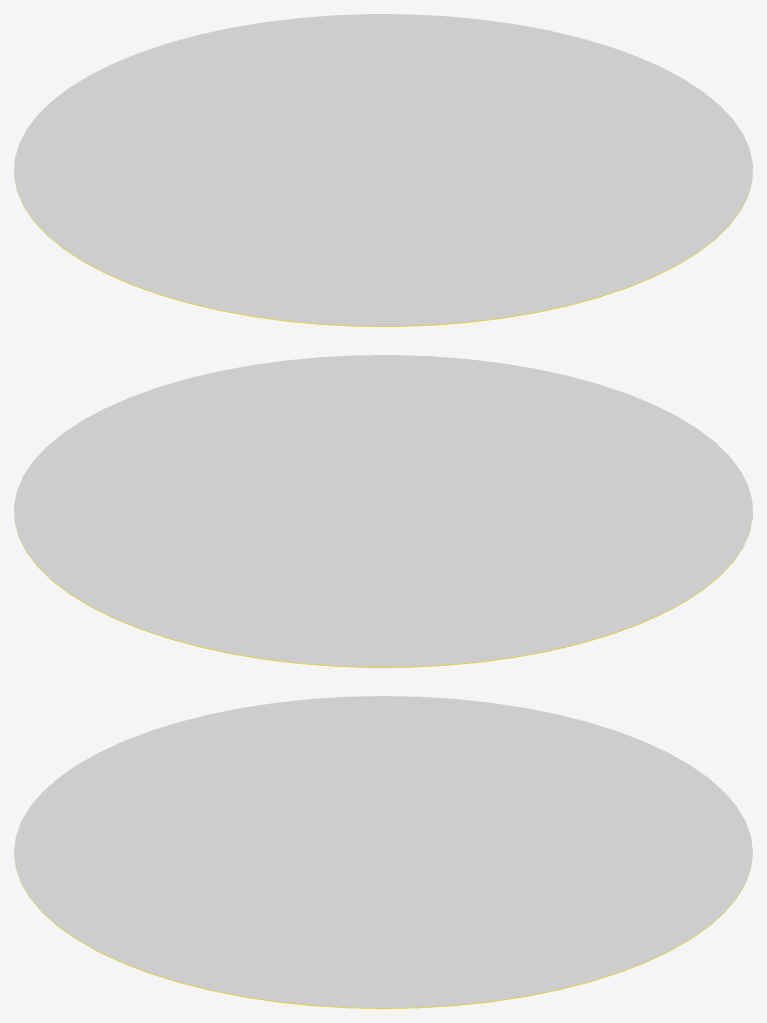
Rendered from Lija.fbx.
3 views of the same model, one above another, from view 1: azimuth 30°, elevation 25°; view 2: azimuth 150°, elevation 25°; view 3: azimuth 270°, elevation 25° (orthographic).
Visible parts, largest first — view 1: Lija, NoLija; view 2: Lija, NoLija; view 3: Lija, NoLija.
Boxes of the visible parts, <box> form: Lija: <box>14,14,752,326</box>; NoLija: <box>14,169,752,326</box>; Lija: <box>14,355,752,667</box>; NoLija: <box>14,510,752,667</box>; Lija: <box>14,696,752,1008</box>; NoLija: <box>14,856,752,1008</box>.
Size of the model in its own units: 49.79 by 0.05 by 49.79.
1 material, 1 textured.
